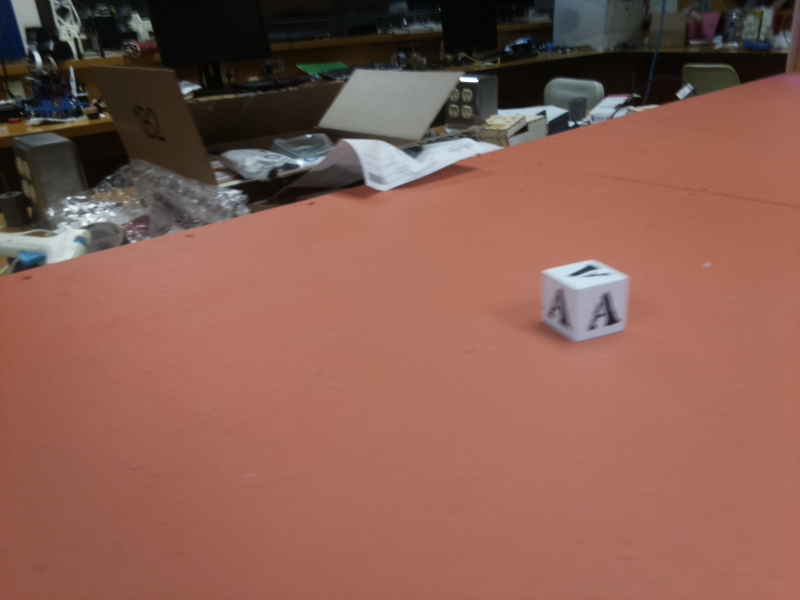blockA: (539, 259, 630, 345)
